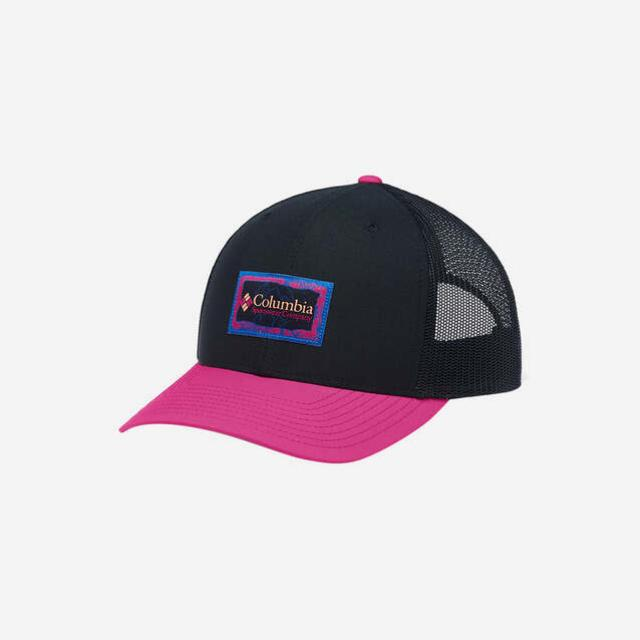Nonhelmet: (98, 164, 535, 468)
